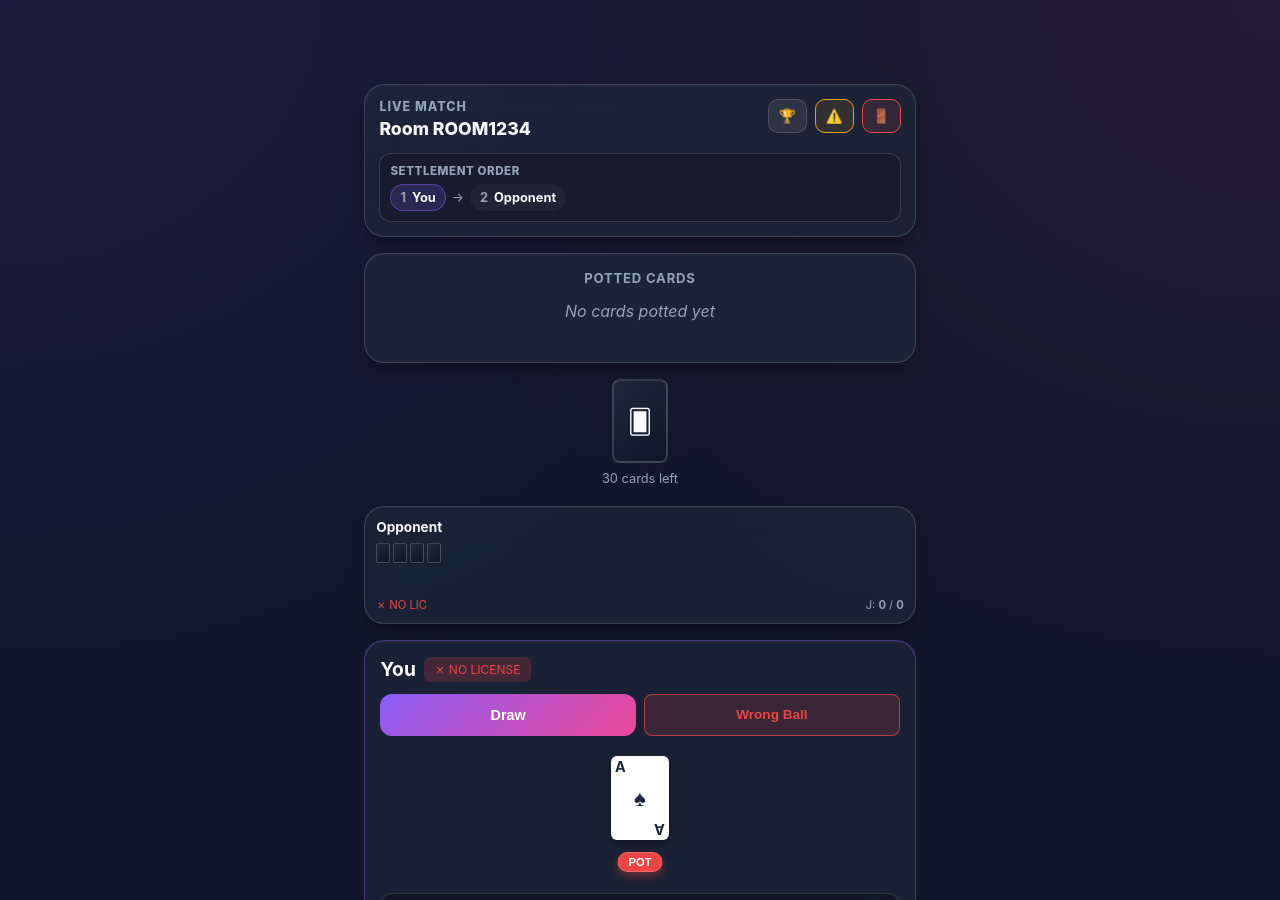
Test: GameScreen batched visit flow › stages selected wrong-ball rank and closes modal
Click the button "Wrong Ball".
click(772, 715)  # box left=644, top=694, right=900, bottom=736
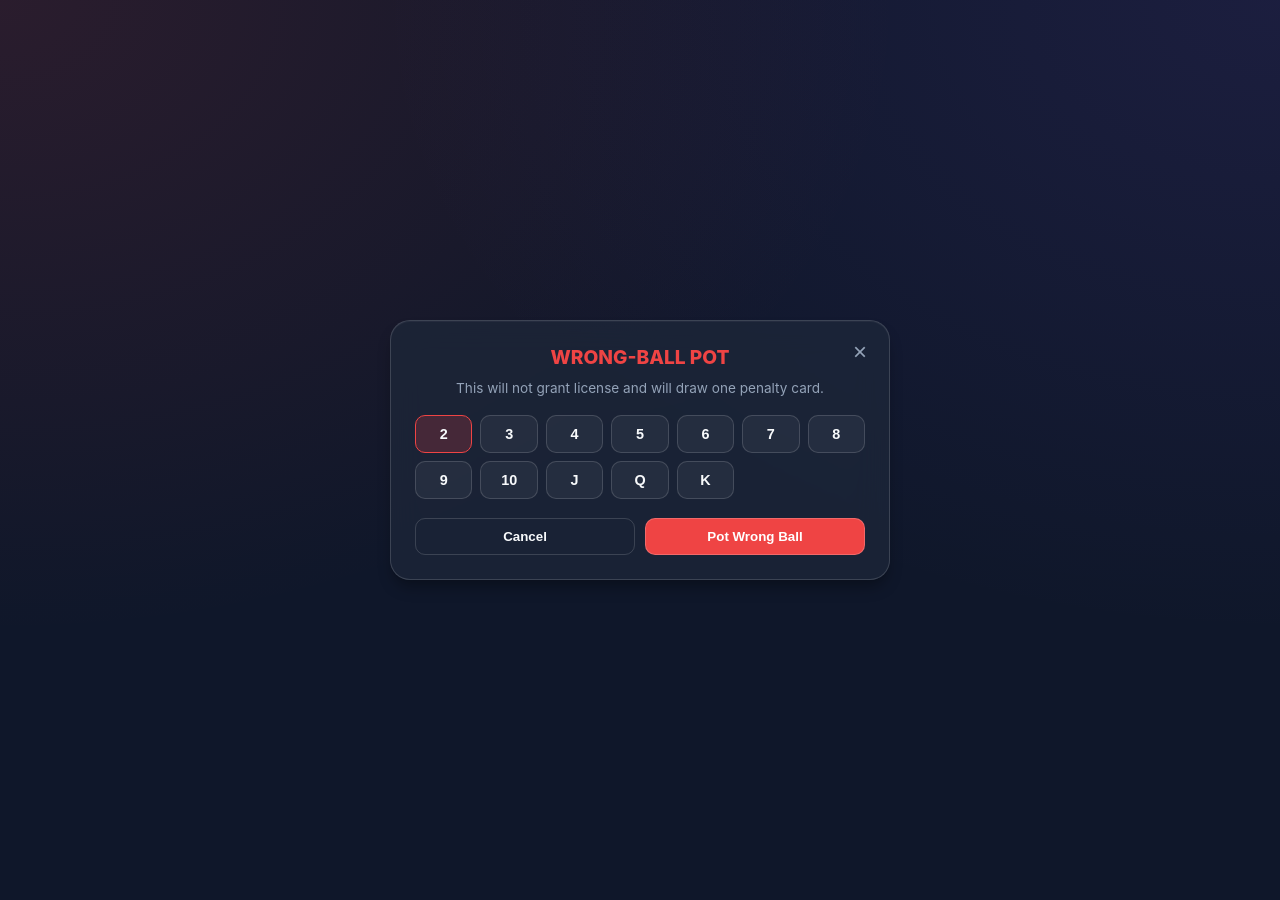
Click the button "Q".
click(640, 480)  # box left=611, top=461, right=669, bottom=499
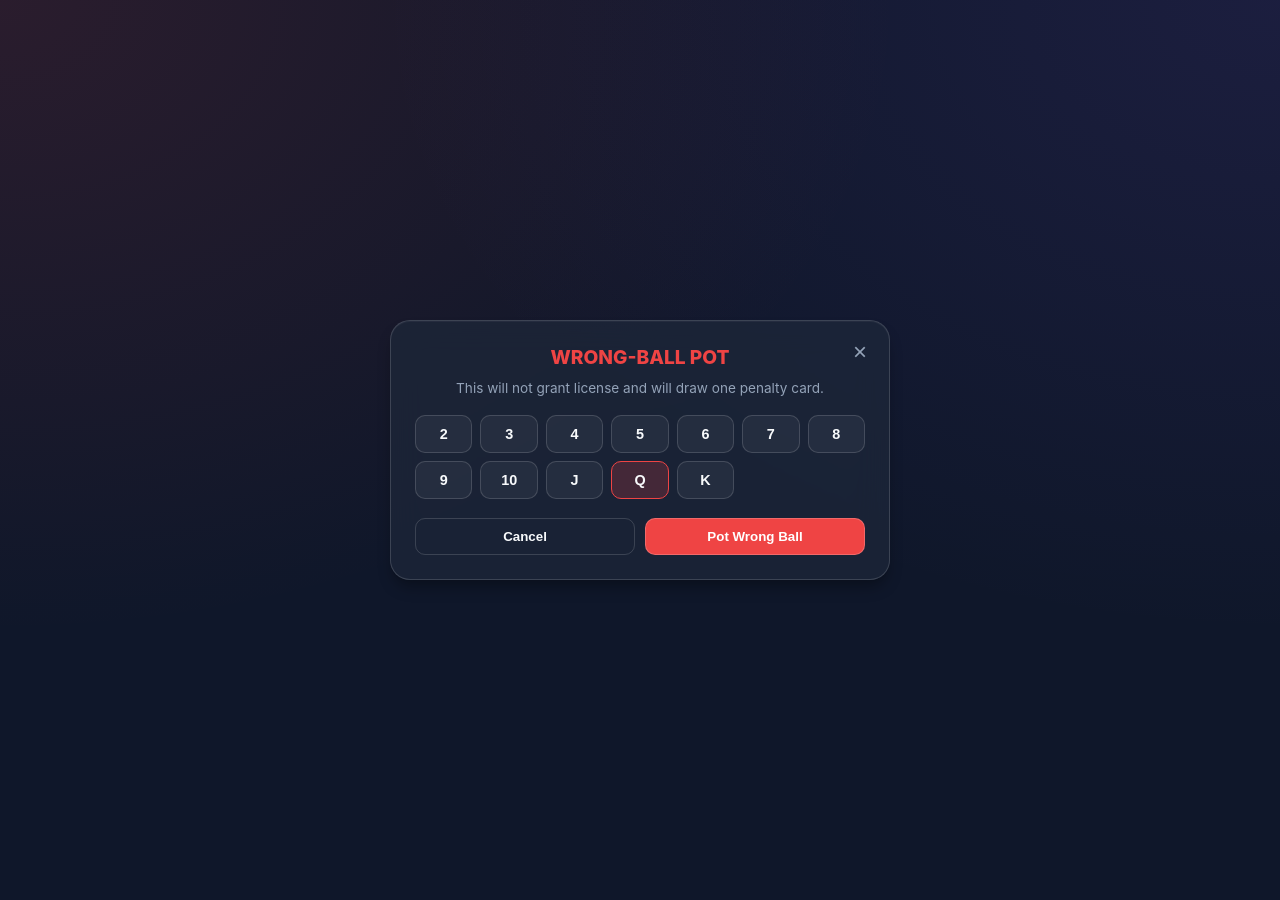
Click the button "Pot Wrong Ball".
click(755, 537)  # box left=645, top=518, right=865, bottom=555
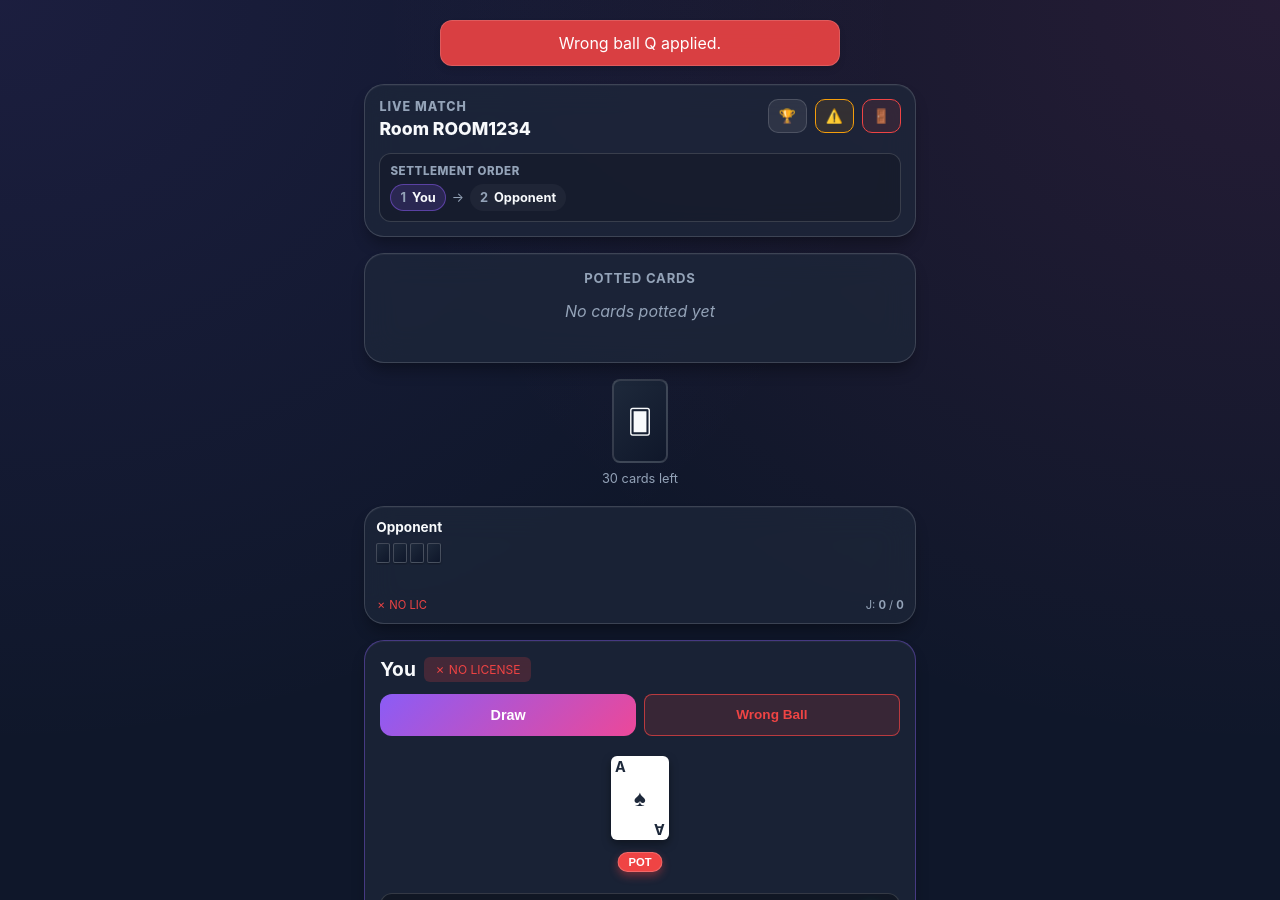
Check: the heading "WRONG-BALL POT" is gone
